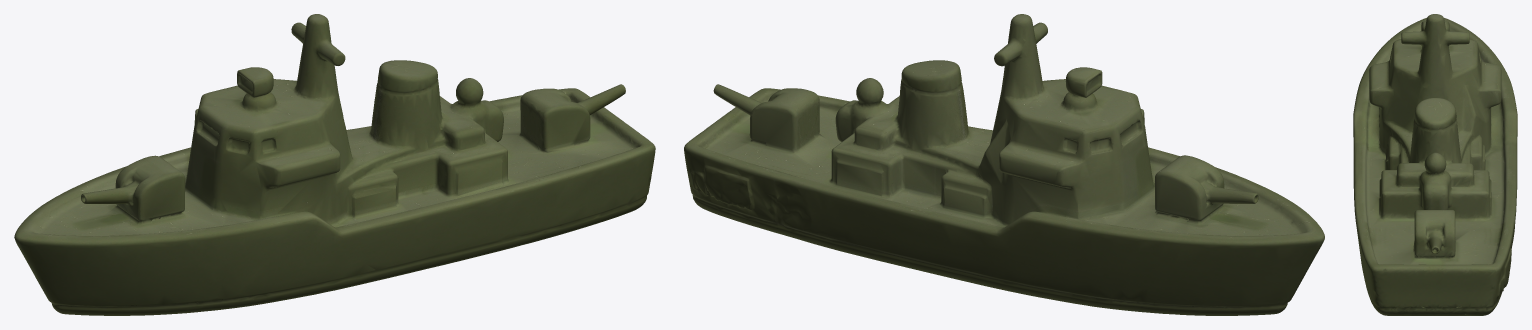
The picture shows the model from 3 angles, left to right: view 1: azimuth 30°, elevation 25°; view 2: azimuth 150°, elevation 25°; view 3: azimuth 270°, elevation 25°; orthographic projection. The views are drawn at different scales.
Visible parts, largest first — view 1: Mesh_0; view 2: Mesh_0; view 3: Mesh_0.
Part boxes in pixels (bbox=[...]): Mesh_0: bbox=[14, 14, 655, 315]; Mesh_0: bbox=[684, 14, 1324, 315]; Mesh_0: bbox=[1353, 14, 1517, 315].
Bounding box in the file's own units: 1.9 × 0.7129 × 0.5617.
Materials: 1 (1 with a texture image).
